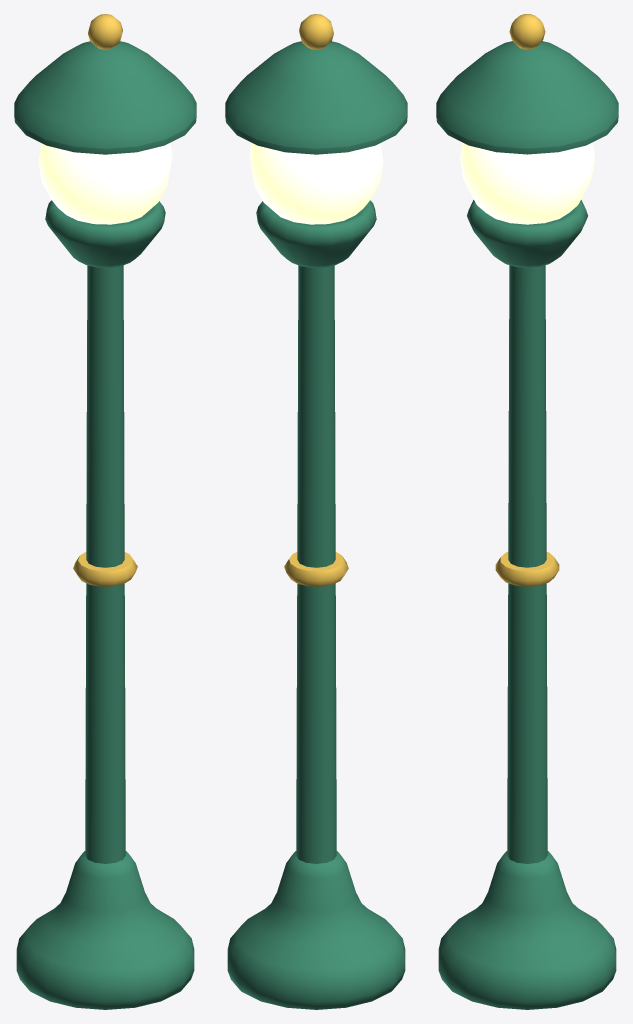
Rendered from prop_lamp.glb.
The picture shows the model from 3 angles, left to right: view 1: azimuth 30°, elevation 25°; view 2: azimuth 150°, elevation 25°; view 3: azimuth 270°, elevation 25°; orthographic projection.
Visible parts, largest first — view 1: prop_lamp; view 2: prop_lamp; view 3: prop_lamp.
Part boxes in pixels (bbox=[...]): prop_lamp: bbox=[14, 14, 196, 1009]; prop_lamp: bbox=[225, 14, 407, 1009]; prop_lamp: bbox=[436, 14, 618, 1009].
Bounding box in the file's own units: 0.4103 × 2.35 × 0.4041.
